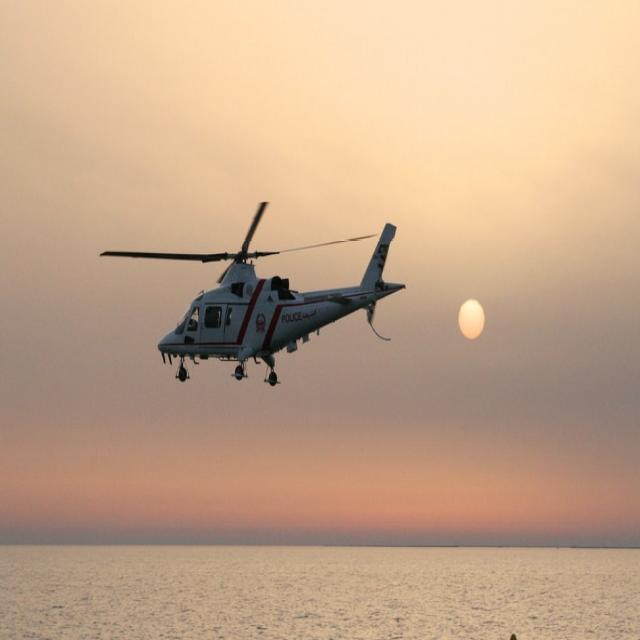helicopter: (120, 207, 405, 391)
